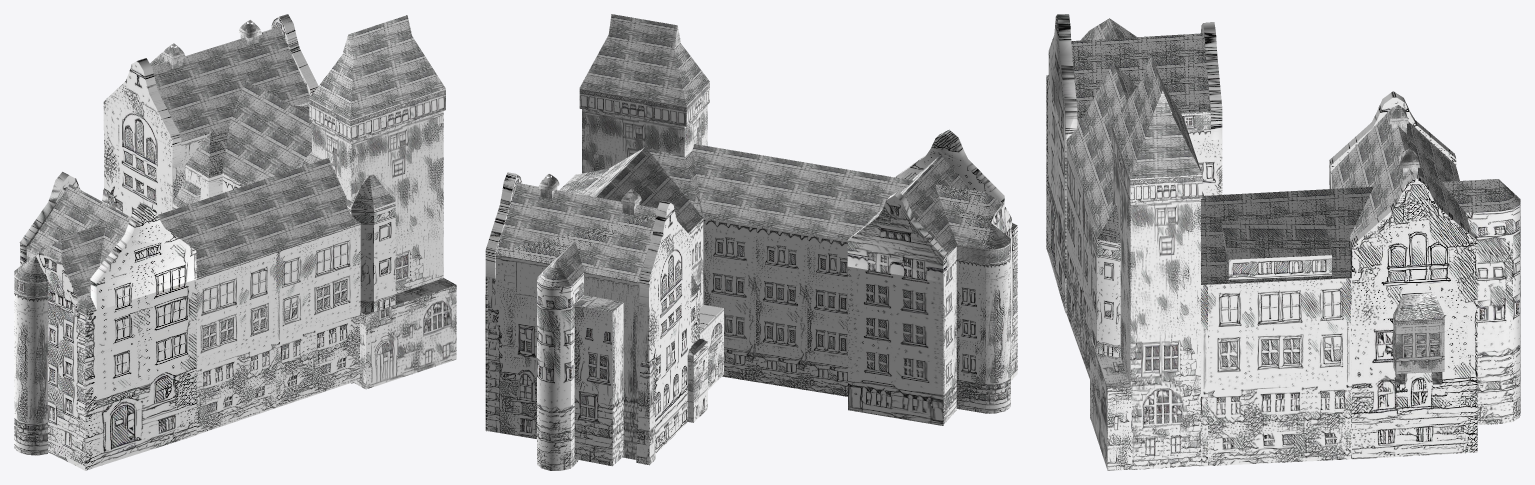
File: 1Tillich-Bau.gltf
3 views of the same model, side by side, from view 1: azimuth 30°, elevation 25°; view 2: azimuth 150°, elevation 25°; view 3: azimuth 270°, elevation 25° (orthographic). The views are drawn at different scales.
Parts seen in each view (by area): view 1: Dach.1; view 2: Dach.1; view 3: Dach.1.
Part boxes in pixels (left/top/right/bottom): Dach.1: left=14, top=14, right=456, bottom=470; Dach.1: left=485, top=14, right=1017, bottom=470; Dach.1: left=1046, top=14, right=1520, bottom=470.
Bounding box in the file's own units: 44.52 × 33.63 × 38.6.
26 materials, 26 textured.
